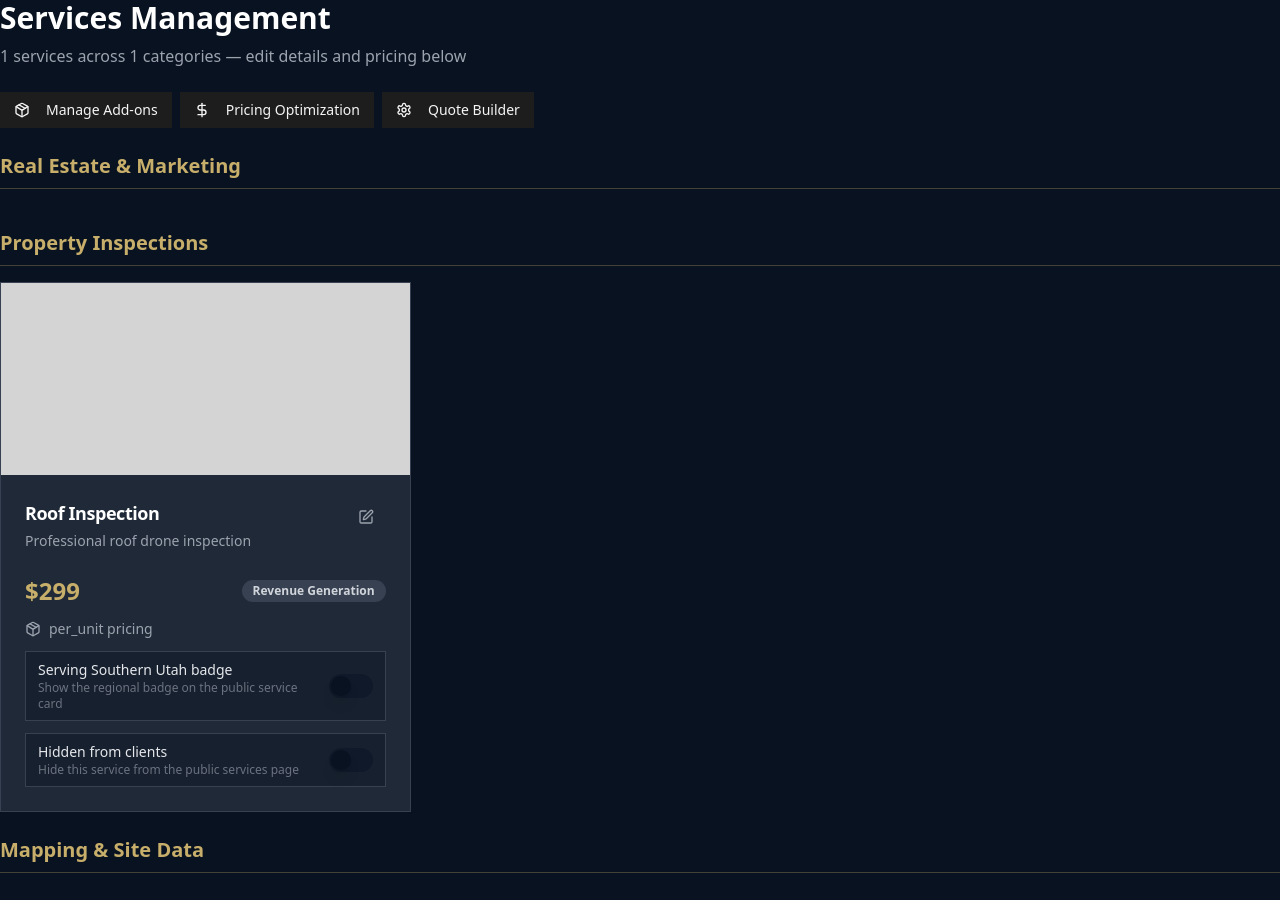
Test: ServicesManagement – disclaimer preview updates live › preview panel disappears when the disclaimer field is cleared
The image size is (1280, 900).
expect the heading "Roof Inspection" is shown: met, box [25,501,159,525]
Step 1. Click the 4th button → (366, 517), box [346,499,386,535]
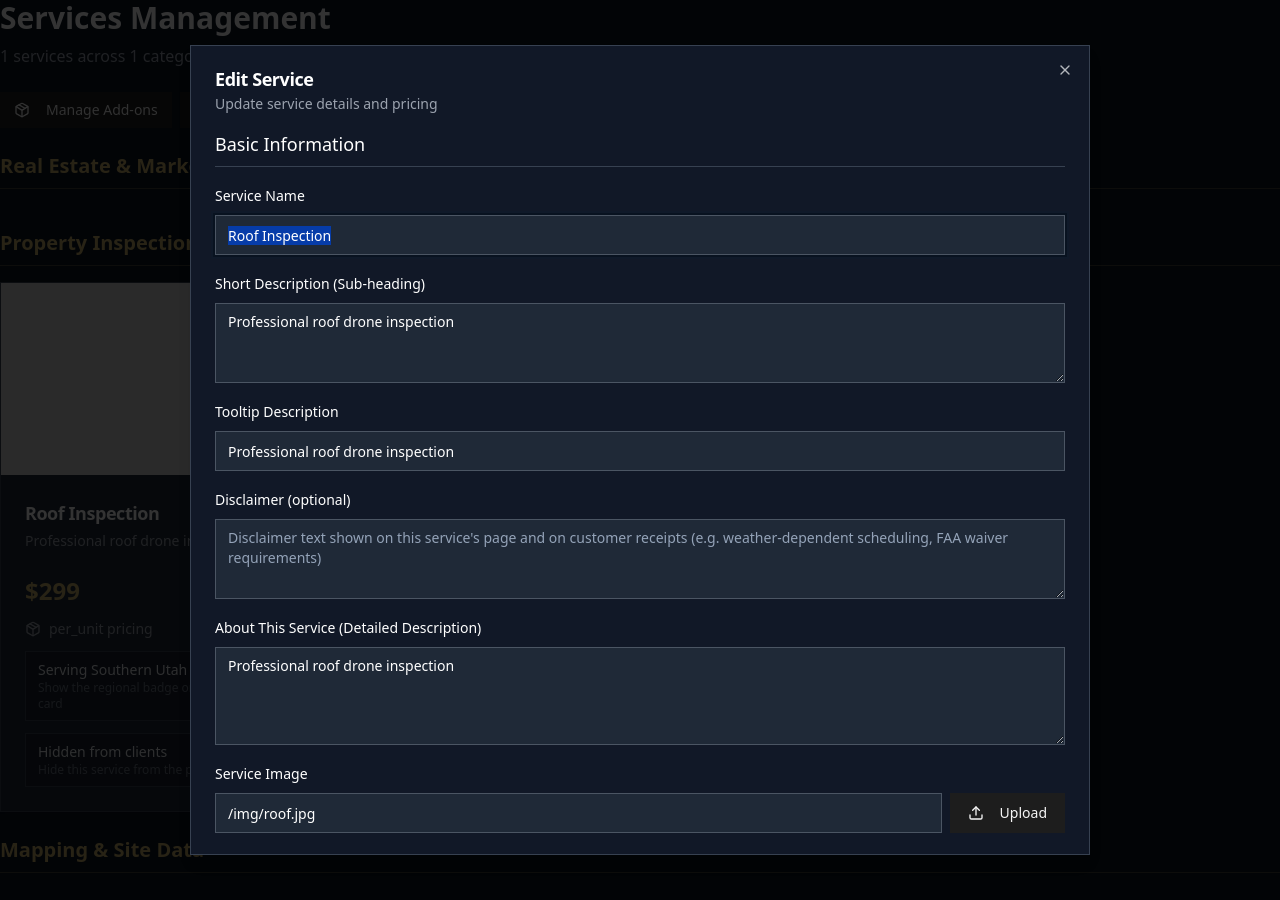
expect the dialog is shown: met
expect the text box labelled "Disclaimer (optional)" is shown: met
Step 2. Replace the text in the text box labelled "Disclaimer (optional)" with "Some disclaimer text." → (640, 559), box [215,519,1065,599]
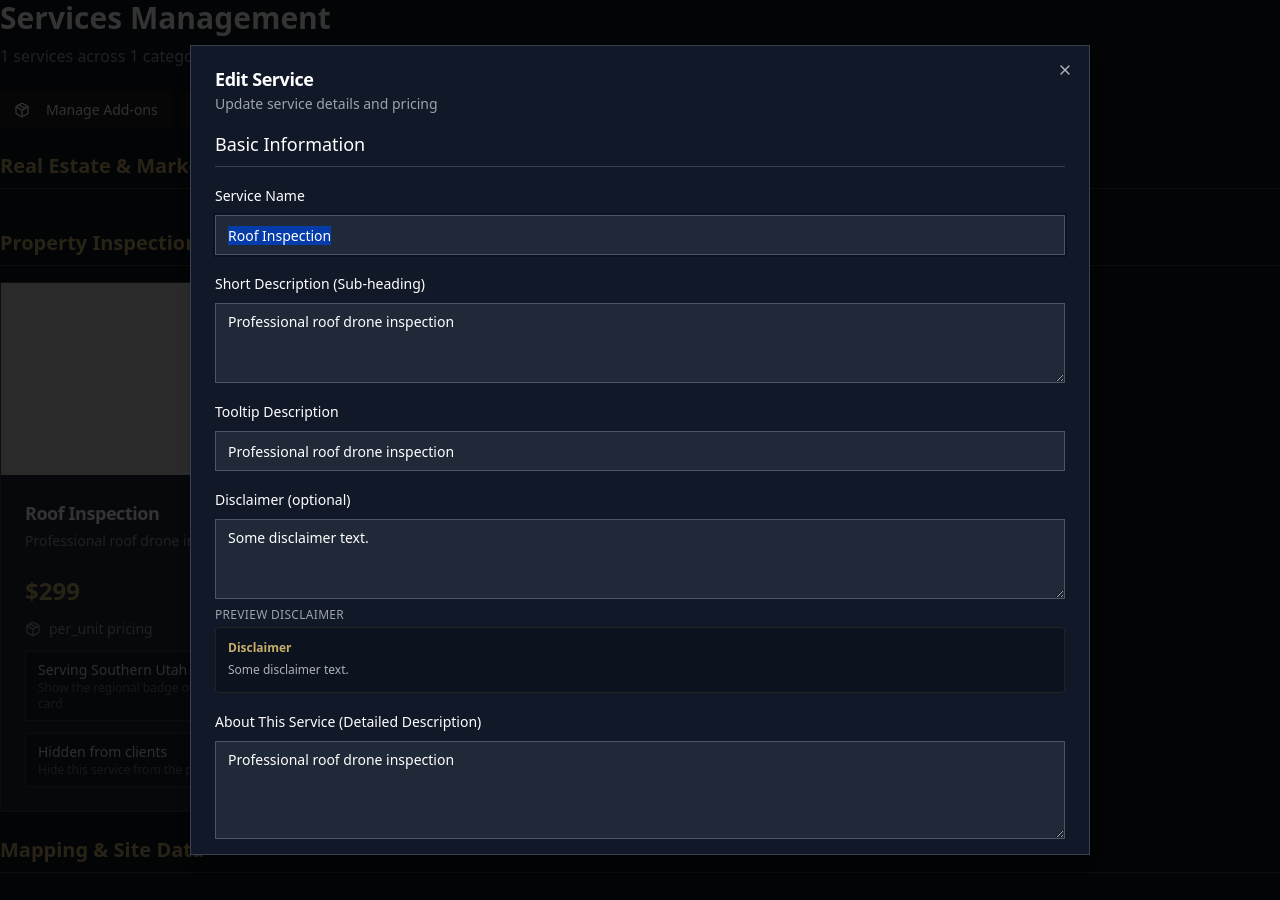
expect the text "Preview disclaimer" is shown: met, box [215,606,344,623]
Step 3. Clear the text box labelled "Disclaimer (optional)" → (640, 559), box [215,519,1065,599]
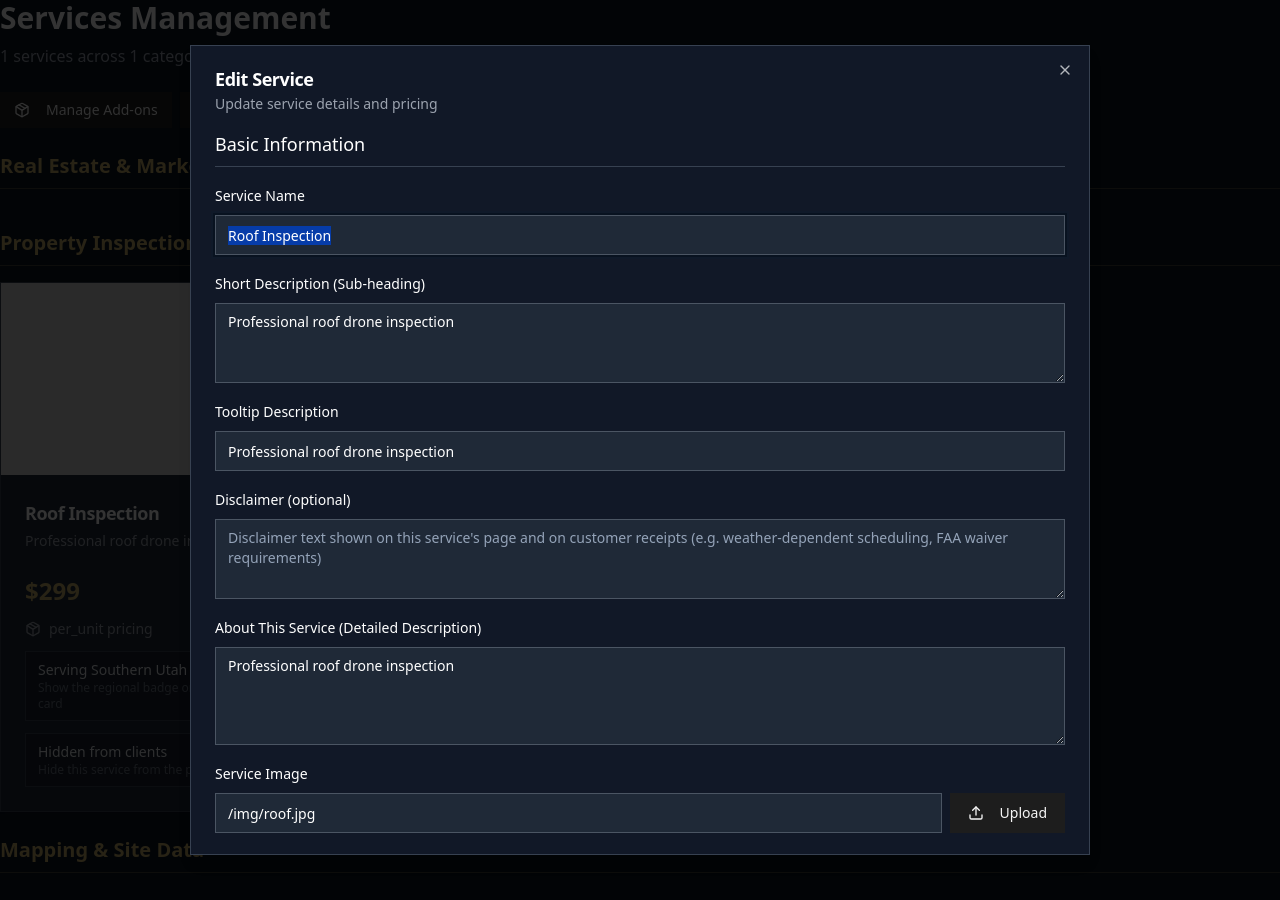
expect the text "Preview disclaimer" is gone: met
